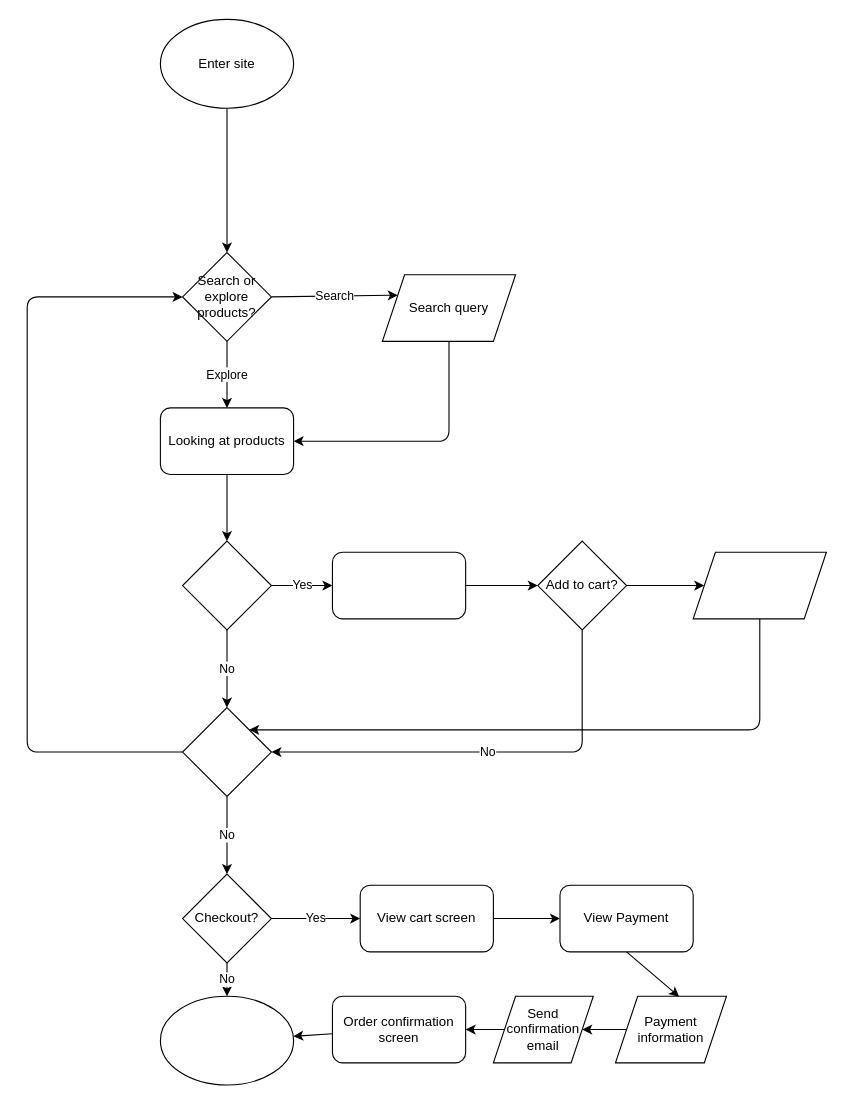
The diagram is 846 pixels wide and 1104 high, and some of its shapes have lost their labels. The centre of each missing label's shape, as x and y in pixels:
"Add to cart confirmation comes up" goes at pixel 759 585.
"Continue shopping?" goes at pixel 226 751.
"Leave site" goes at pixel 226 1040.
"View a specific product?" goes at pixel 226 585.
"Webpage for product comes up" goes at pixel 398 585.
